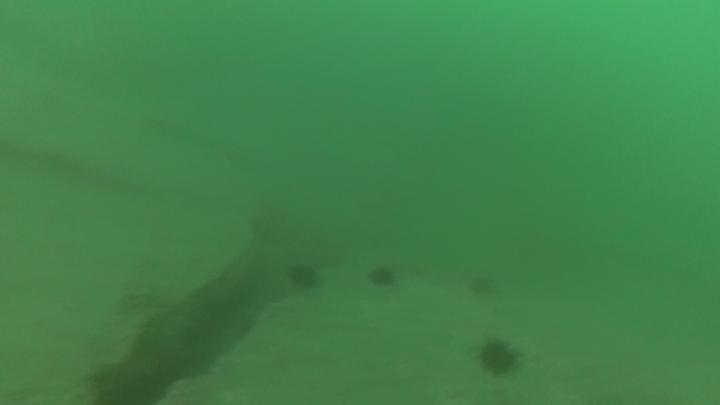echinus: (475, 336, 522, 379), (285, 260, 323, 293), (365, 262, 400, 291), (465, 272, 497, 299)
